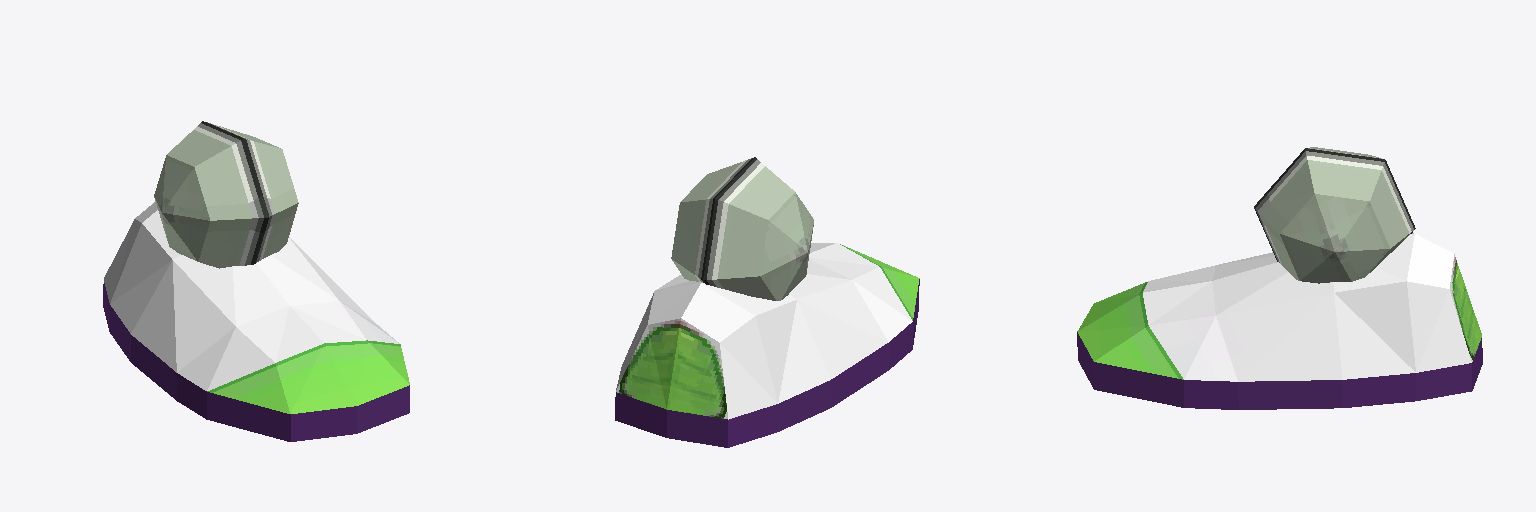
3 renders of one model, left to right at view 1: azimuth 30°, elevation 25°; view 2: azimuth 150°, elevation 25°; view 3: azimuth 270°, elevation 25°, orthographic.
Parts seen in each view (by area): view 1: buzzlightyRightFoot_buzzlighty.005; view 2: buzzlightyRightFoot_buzzlighty.005; view 3: buzzlightyRightFoot_buzzlighty.005.
Part boxes in pixels (x1,y1,x2,y2): buzzlightyRightFoot_buzzlighty.005: (103, 121, 409, 441); buzzlightyRightFoot_buzzlighty.005: (615, 157, 919, 447); buzzlightyRightFoot_buzzlighty.005: (1077, 147, 1482, 409).
Bounding box in the file's own units: 0.1084 × 0.1119 × 0.1904.
1 materials, 1 textured.